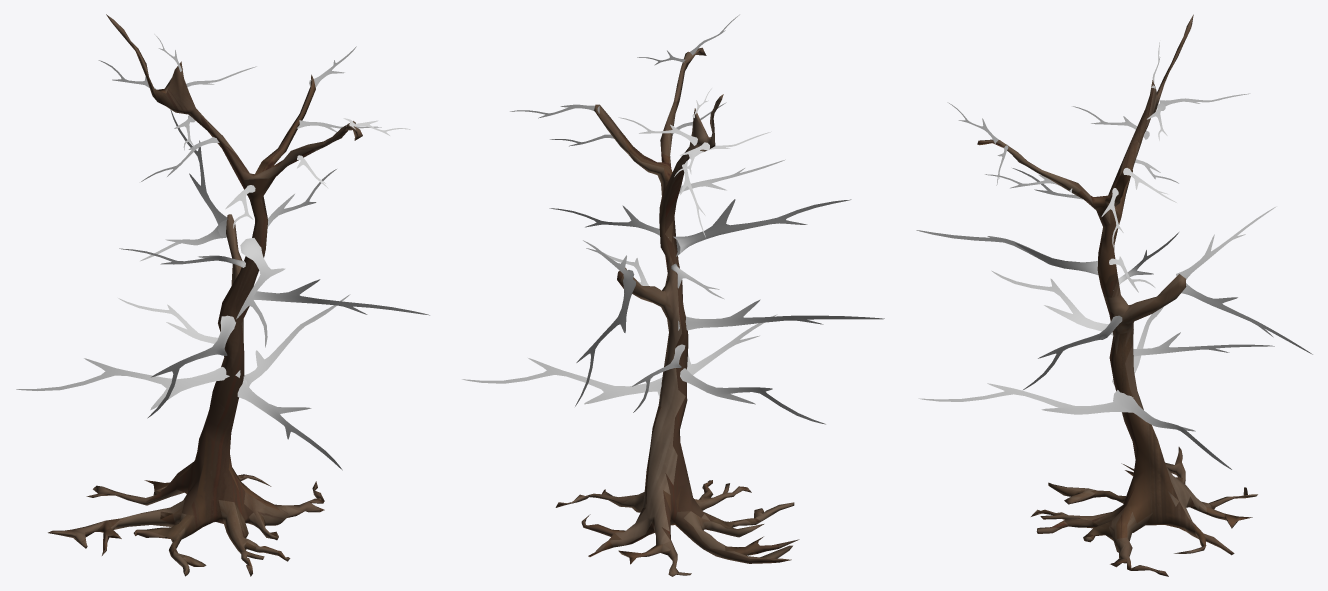
Rendered from Tree_Juniper_Dead.fbx.
3 views of the same model, side by side, from view 1: azimuth 30°, elevation 25°; view 2: azimuth 150°, elevation 25°; view 3: azimuth 270°, elevation 25° (orthographic). The views are drawn at different scales.
Parts seen in each view (by area): view 1: Tree Juniper Dead; view 2: Tree Juniper Dead; view 3: Tree Juniper Dead.
Boxes of the visible parts, bbox=[...] form: Tree Juniper Dead: bbox=[16, 14, 429, 576]; Tree Juniper Dead: bbox=[462, 14, 884, 576]; Tree Juniper Dead: bbox=[916, 14, 1312, 576].
Bounding box in the file's own units: 558 × 754 × 563.
